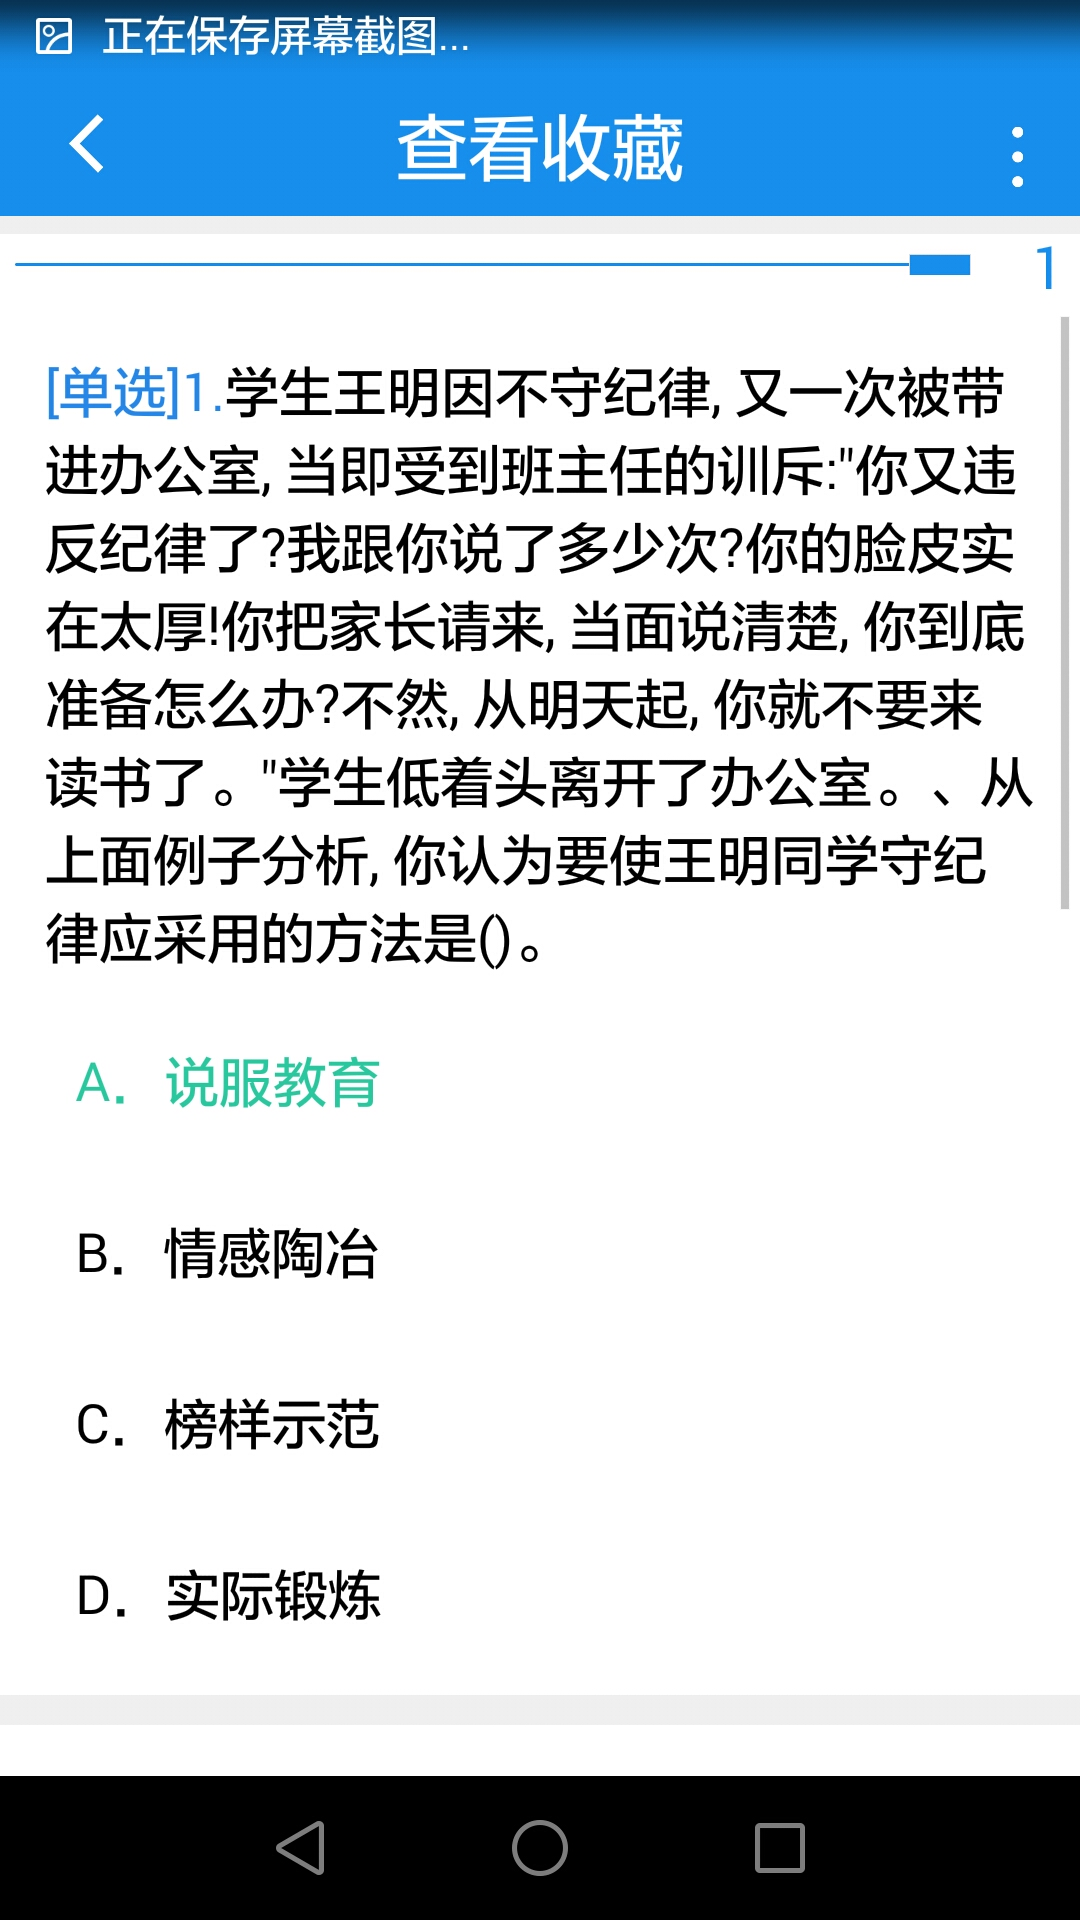textview: (33, 276, 1048, 1647)
